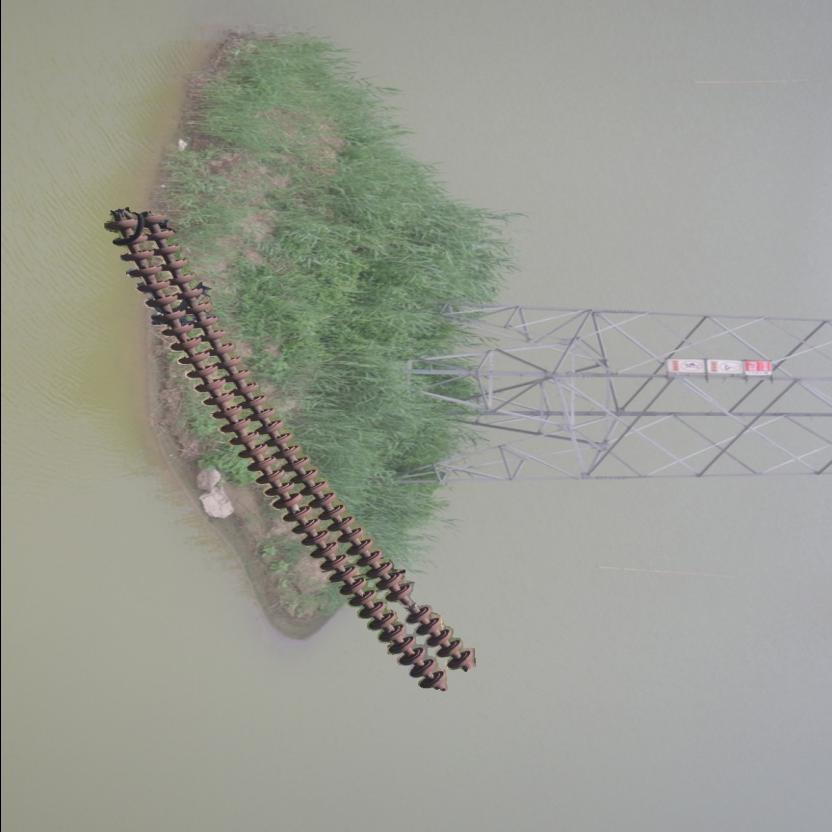defect: (386, 582, 434, 627)
